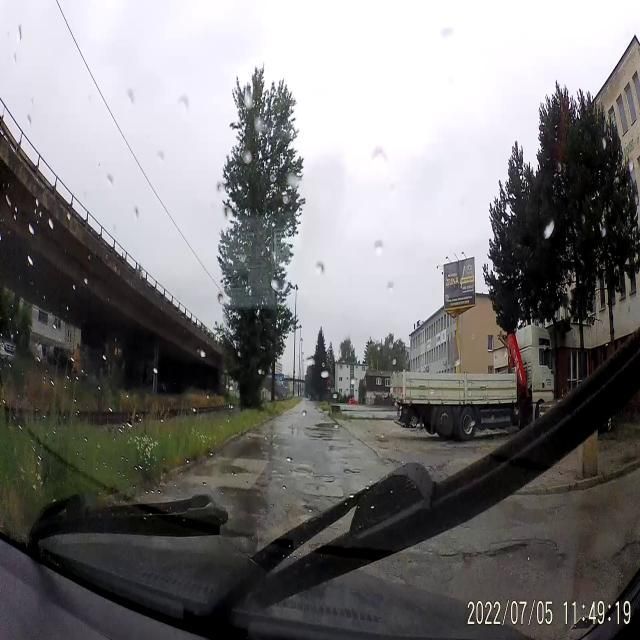Manhole: (313, 473, 339, 486)
Pothole: (482, 536, 531, 563), (433, 546, 477, 570), (341, 462, 361, 481), (292, 463, 314, 479), (297, 499, 320, 514), (376, 454, 399, 467)
